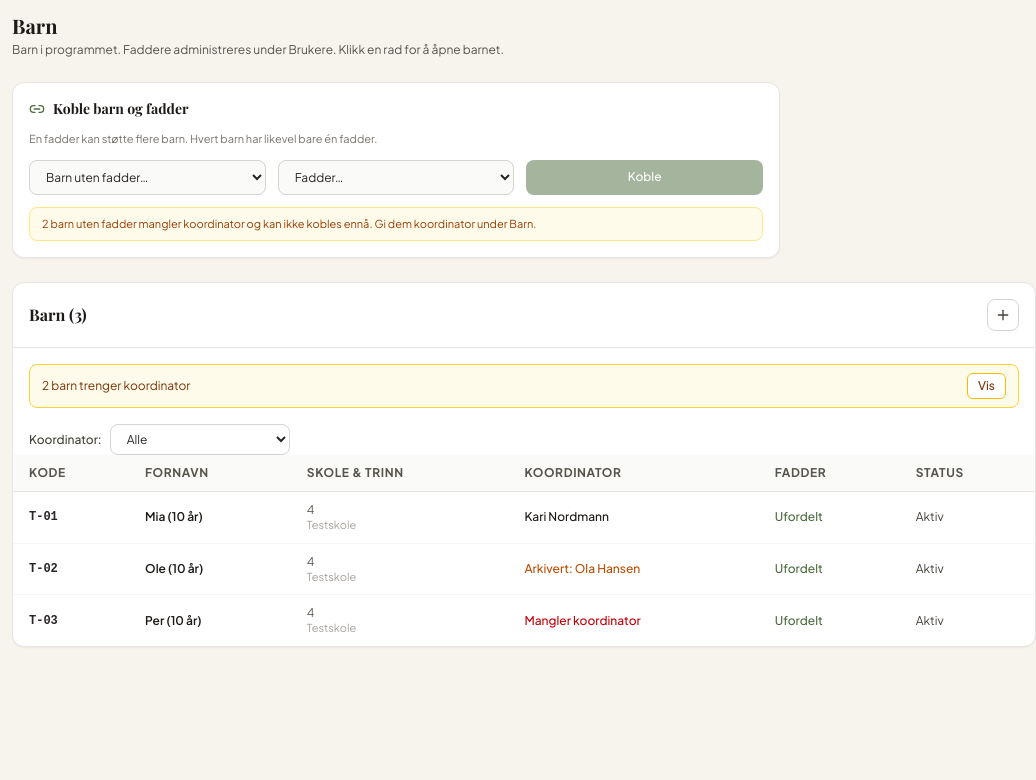
it: Barn-siden: bytt koordinator i barnekortet › knappen er deaktivert når valgt koordinator er den samme
Click the text "T-01" at (43,517), box [13, 492, 129, 543]
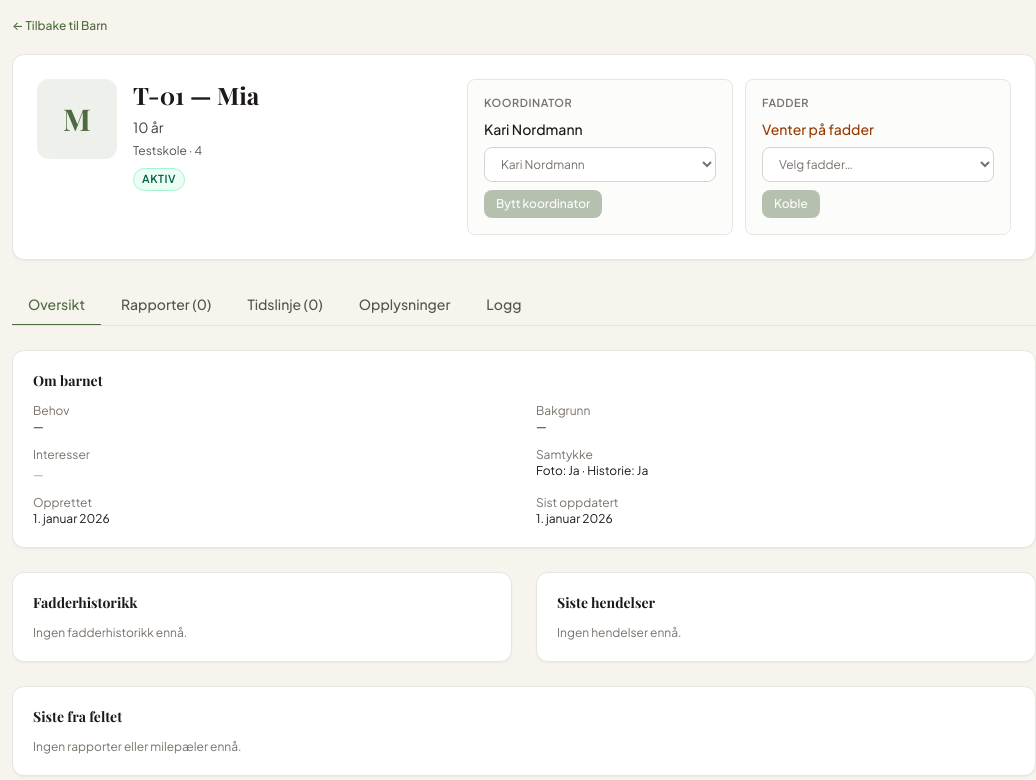
Now the button "Bytt koordinator" is disabled, box [484, 190, 602, 218]
